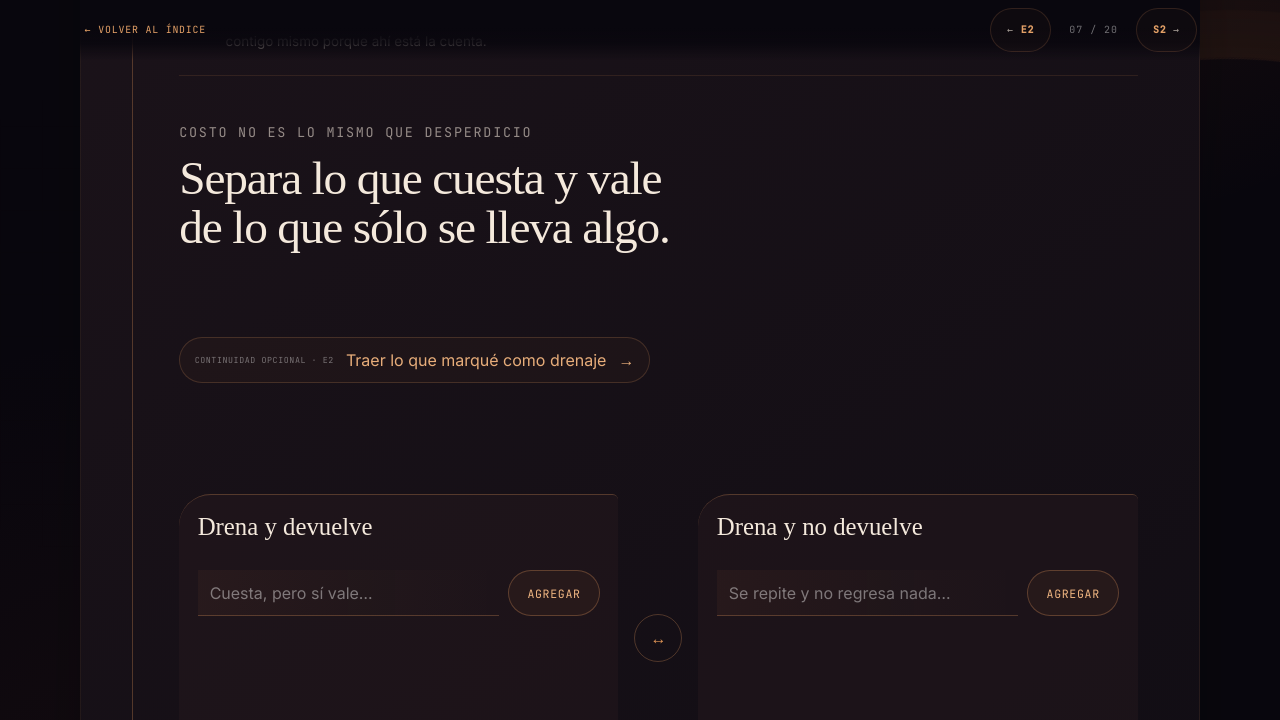
Test case: cuaderno de trabajo › S1 permite mover una ficha entre las dos columnas
(page scrolled)
Click the button "Continuidad opcional · E2 Traer lo que marqué como drenaje →". click: (414,360)
box: [179, 337, 650, 383]
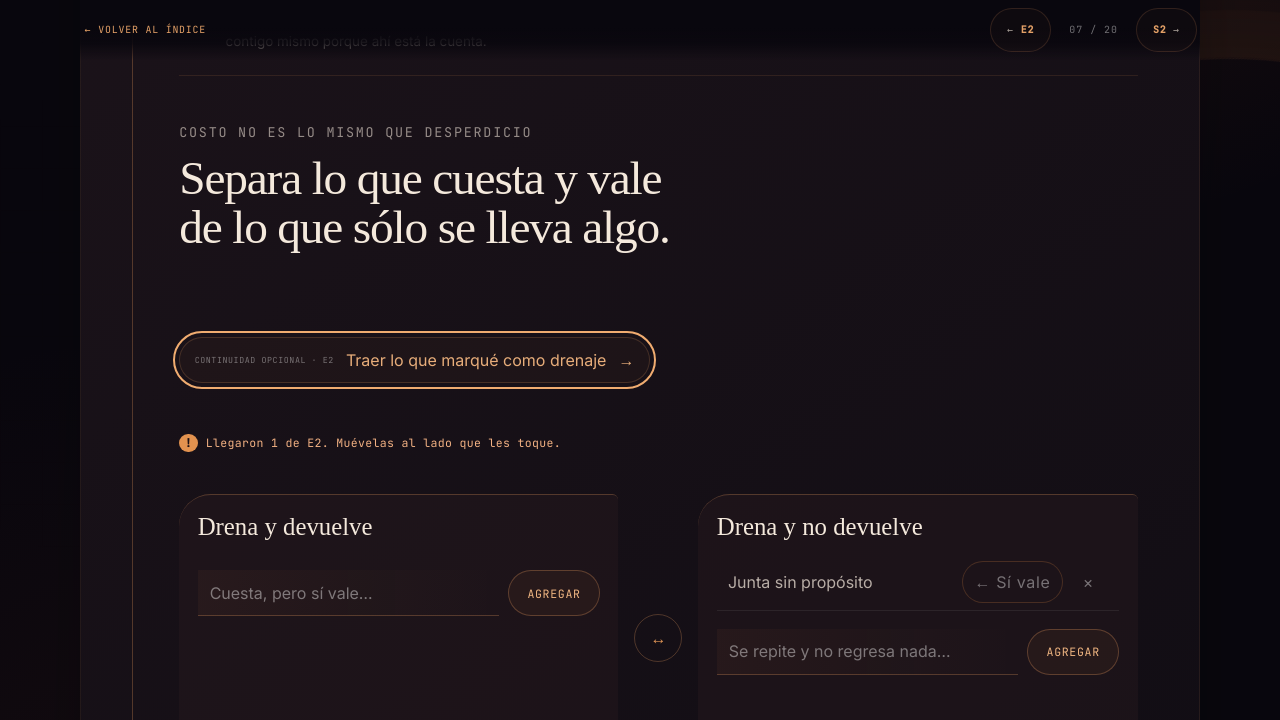
Check: the text "! Llegaron 1 de E2. Muévelas al lado que les toque." is shown, box [179, 434, 561, 452]
Click the button named "Mover \"Junta sin propósito\" a ← Sí vale". click: (1012,582)
box: [963, 562, 1062, 602]
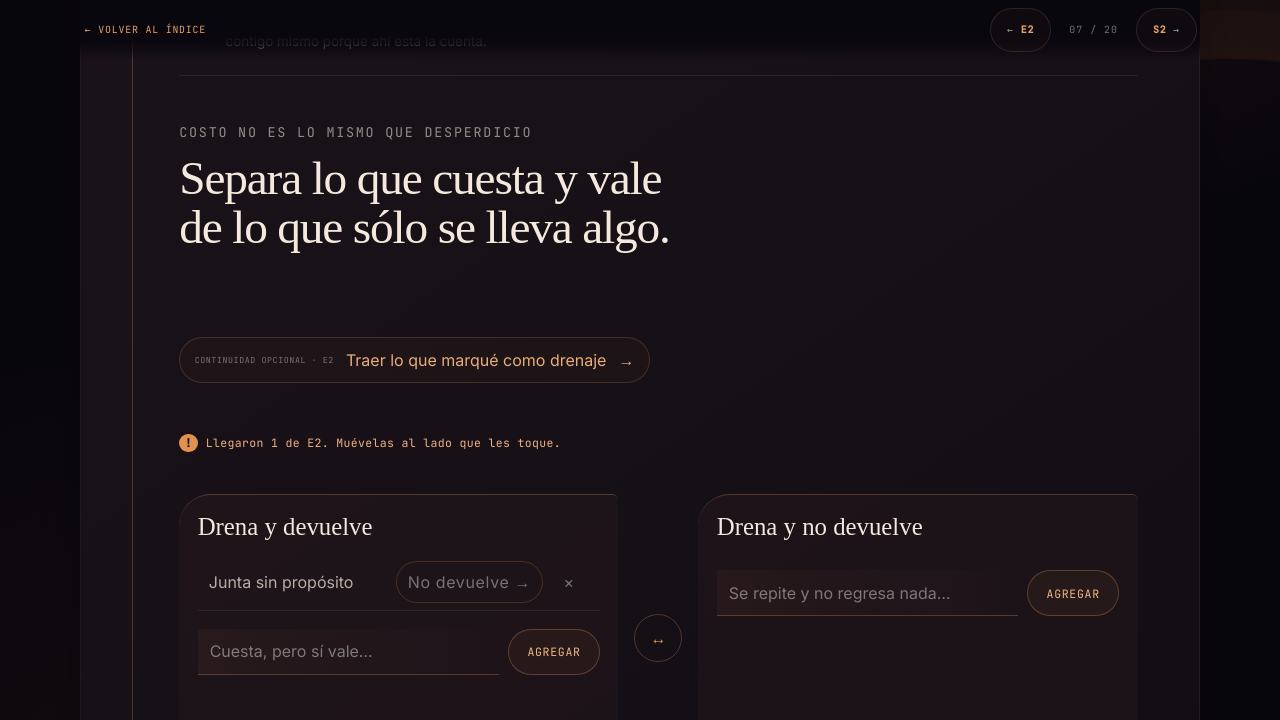
Check: the button named "Mover \"Junta sin propósito\" a No devuelve →" is shown
// Y de regreso, sin perder el texto.
Click the button named "Mover \"Junta sin propósito\" a No devuelve →". click: (469,582)
box: [396, 562, 542, 602]
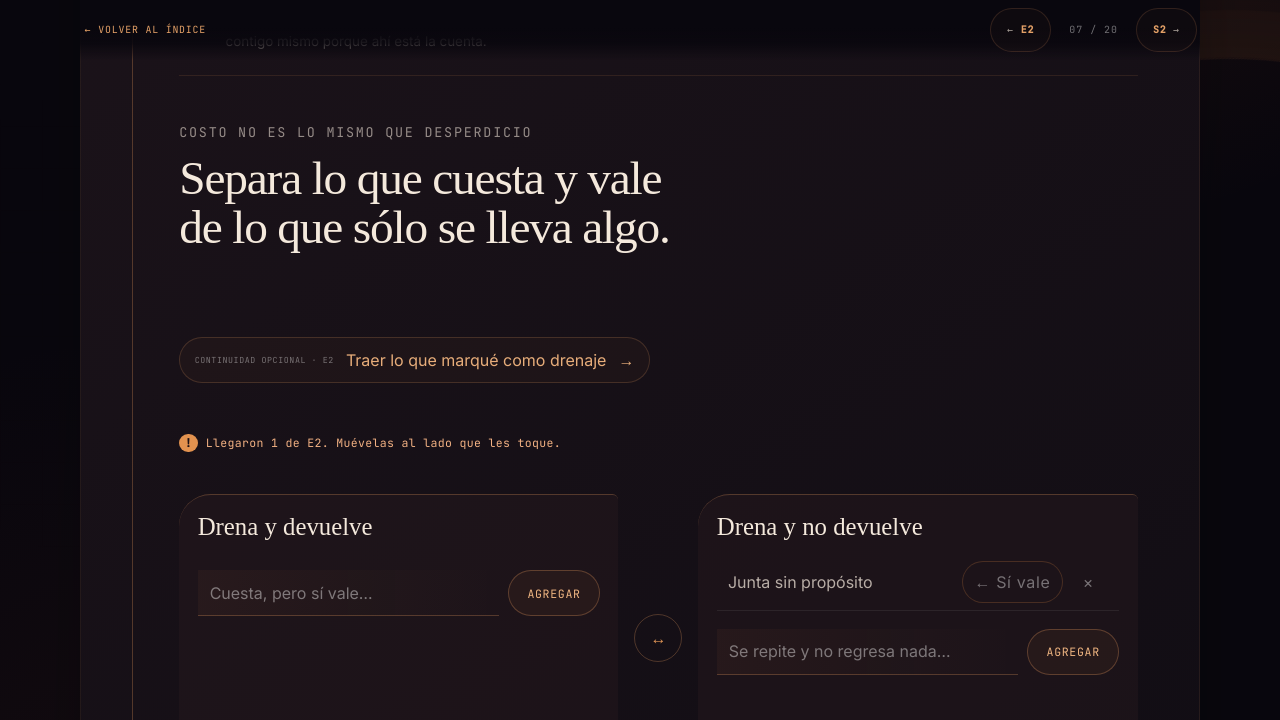
Check: the button named "Mover \"Junta sin propósito\" a ← Sí vale" is shown, box [963, 562, 1062, 602]
